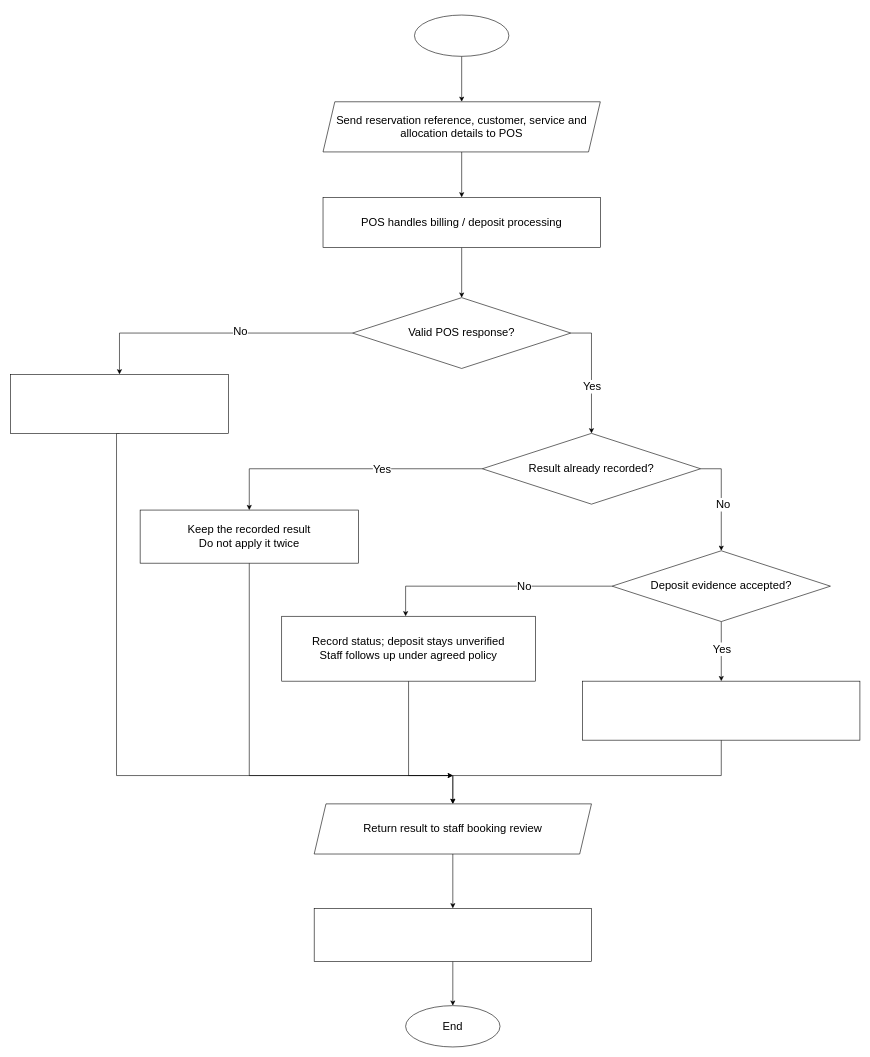
This 870x1057 diagram has some shape labels left out. Here are the shapes that lost their labels. From the top down, the box of each, then its label:
(414, 14, 509, 56): Start
(10, 374, 229, 433): No valid response Keep deposit unverified; record failure
(582, 681, 860, 740): Save verified deposit and transaction reference
(314, 908, 591, 961): Staff may confirm only when all approval requirements are met
